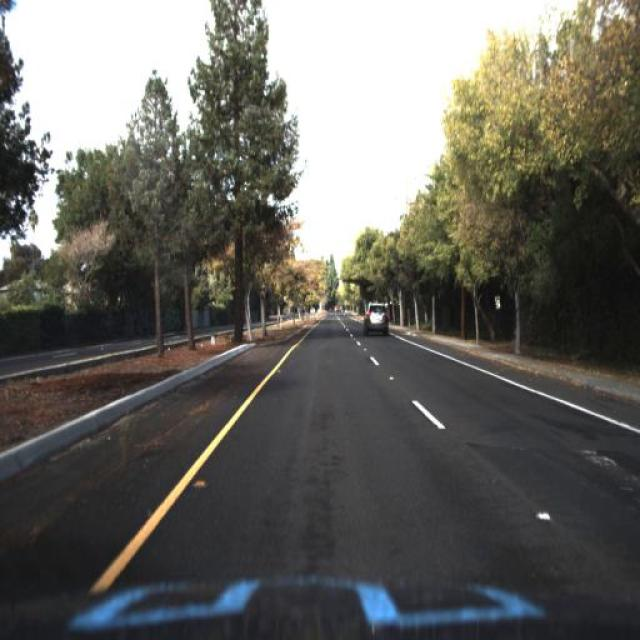car: (362, 299, 390, 337)
